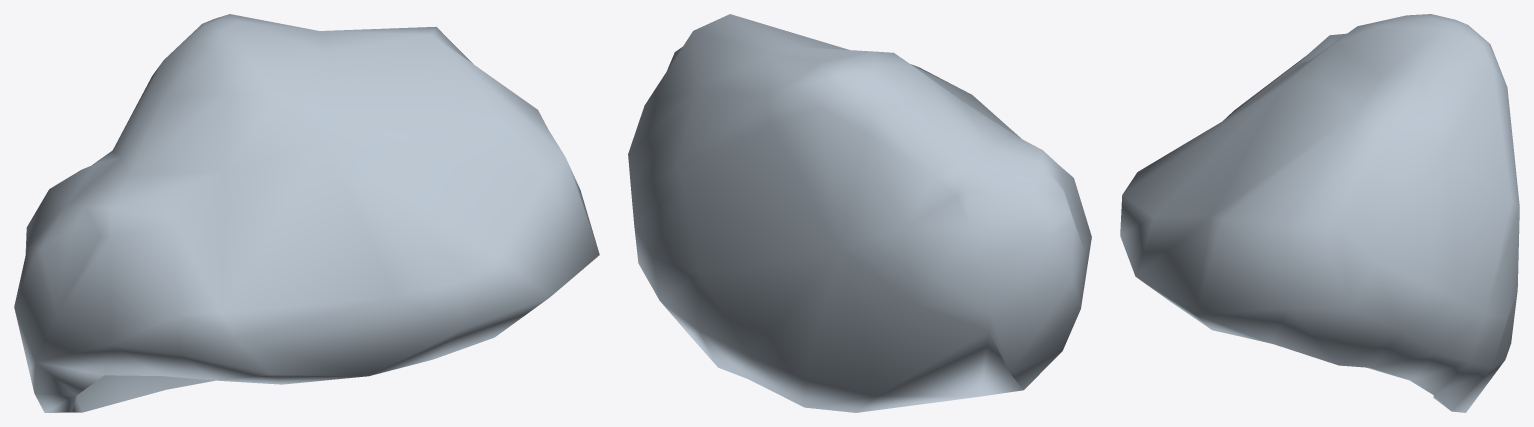
Rendered from articular-disc-of-temporomandibular-joint-l.glb.
3 views of the same model, side by side, from view 1: azimuth 30°, elevation 25°; view 2: azimuth 150°, elevation 25°; view 3: azimuth 270°, elevation 25° (orthographic). The views are drawn at different scales.
Visible parts, largest first — view 1: Articular disc of temporomandibular joint.l; view 2: Articular disc of temporomandibular joint.l; view 3: Articular disc of temporomandibular joint.l.
Part boxes in pixels (left/top/right/bottom): Articular disc of temporomandibular joint.l: left=14, top=14, right=599, bottom=412; Articular disc of temporomandibular joint.l: left=628, top=14, right=1091, bottom=412; Articular disc of temporomandibular joint.l: left=1120, top=14, right=1519, bottom=412.
Size of the model in its own units: 0.0193 by 0.0135 by 0.0139.
